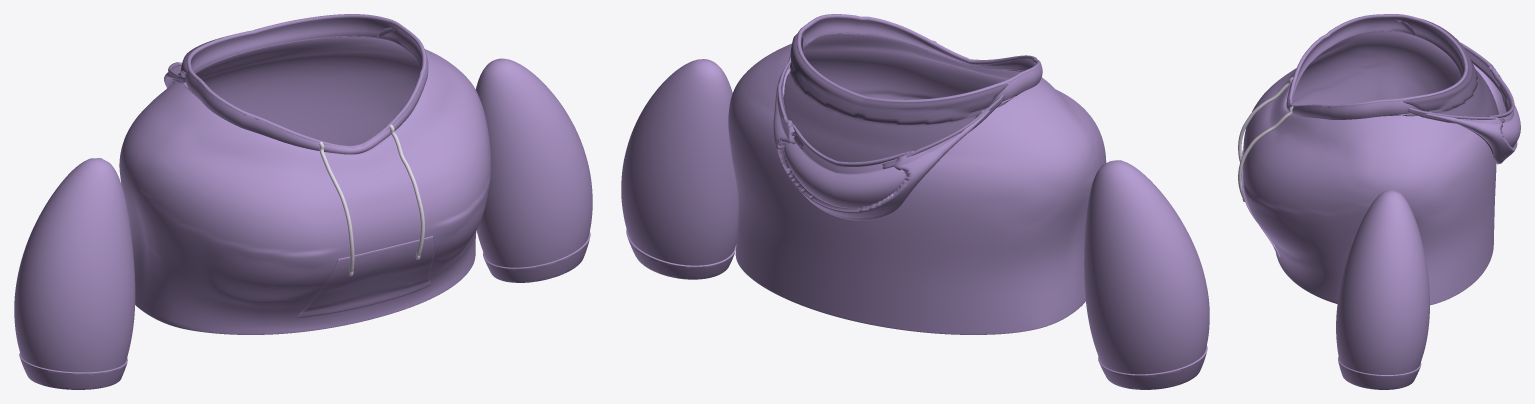
The model's file is Feminine-sweatshirt-top.glb.
The picture shows the model from 3 angles, left to right: view 1: azimuth 30°, elevation 25°; view 2: azimuth 150°, elevation 25°; view 3: azimuth 270°, elevation 25°; orthographic projection. The views are drawn at different scales.
Parts seen in each view (by area): view 1: Clothing / tailored203, Sleeve / full fabric wrap201 -1, Sleeve / full fabric wrap201 1, Hoodie / attached opening204, Hoodie / seated pouch202, Hoodie / rolled opening204 export, Sleeve / shaped cuff202 -1, Sleeve / shaped cuff202 1, Hoodie / front seated cord205 -1 export, Hoodie / front seated cord205 1 export, Hoodie / shallow resting pouch206; view 2: Clothing / tailored203, Sleeve / full fabric wrap201 -1, Hoodie / shallow resting pouch206, Sleeve / full fabric wrap201 1, Hoodie / attached opening204, Hoodie / rolled opening204 export, Sleeve / shaped cuff202 -1, Sleeve / shaped cuff202 1; view 3: Clothing / tailored203, Sleeve / full fabric wrap201 1, Hoodie / shallow resting pouch206, Hoodie / attached opening204, Hoodie / rolled opening204 export, Sleeve / shaped cuff202 1, Hoodie / front seated cord205 1 export, Hoodie / front seated cord205 -1 export.
Boxes of the visible parts, <box> form: Clothing / tailored203: <box>119,35,490,334</box>; Sleeve / full fabric wrap201 -1: <box>14,158,135,372</box>; Sleeve / full fabric wrap201 1: <box>475,58,592,267</box>; Hoodie / attached opening204: <box>184,18,428,154</box>; Hoodie / seated pouch202: <box>298,236,434,317</box>; Hoodie / rolled opening204 export: <box>186,14,426,148</box>; Sleeve / shaped cuff202 -1: <box>19,353,127,389</box>; Sleeve / shaped cuff202 1: <box>483,231,590,282</box>; Hoodie / front seated cord205 -1 export: <box>319,141,354,272</box>; Hoodie / front seated cord205 1 export: <box>389,124,424,255</box>; Hoodie / shallow resting pouch206: <box>164,27,397,88</box>; Clothing / tailored203: <box>728,32,1106,334</box>; Sleeve / full fabric wrap201 -1: <box>1084,160,1209,374</box>; Hoodie / shallow resting pouch206: <box>773,32,1008,220</box>; Sleeve / full fabric wrap201 1: <box>621,59,738,265</box>; Hoodie / attached opening204: <box>802,18,1042,107</box>; Hoodie / rolled opening204 export: <box>796,14,1040,102</box>; Sleeve / shaped cuff202 -1: <box>1098,345,1207,389</box>; Sleeve / shaped cuff202 1: <box>626,229,736,279</box>; Clothing / tailored203: <box>1243,30,1496,305</box>; Sleeve / full fabric wrap201 1: <box>1336,189,1429,374</box>; Hoodie / shallow resting pouch206: <box>1392,18,1520,164</box>; Hoodie / attached opening204: <box>1287,17,1464,119</box>; Hoodie / rolled opening204 export: <box>1288,14,1467,107</box>; Sleeve / shaped cuff202 1: <box>1338,357,1421,389</box>; Hoodie / front seated cord205 1 export: <box>1238,106,1293,198</box>; Hoodie / front seated cord205 -1 export: <box>1238,77,1293,162</box>.
Size of the model in its own units: 1.06 by 0.4801 by 0.5386.
